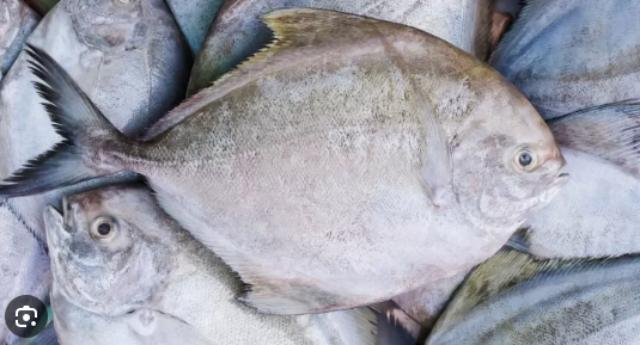Mulut: (526, 144, 590, 208)
Sirip Anal: (142, 174, 245, 284)
Sirip Dada: (362, 16, 466, 220)
Sirip Ekor: (0, 37, 130, 218)
Sirip Perut: (224, 270, 360, 328)
Sirip Punggung: (139, 0, 383, 142)
